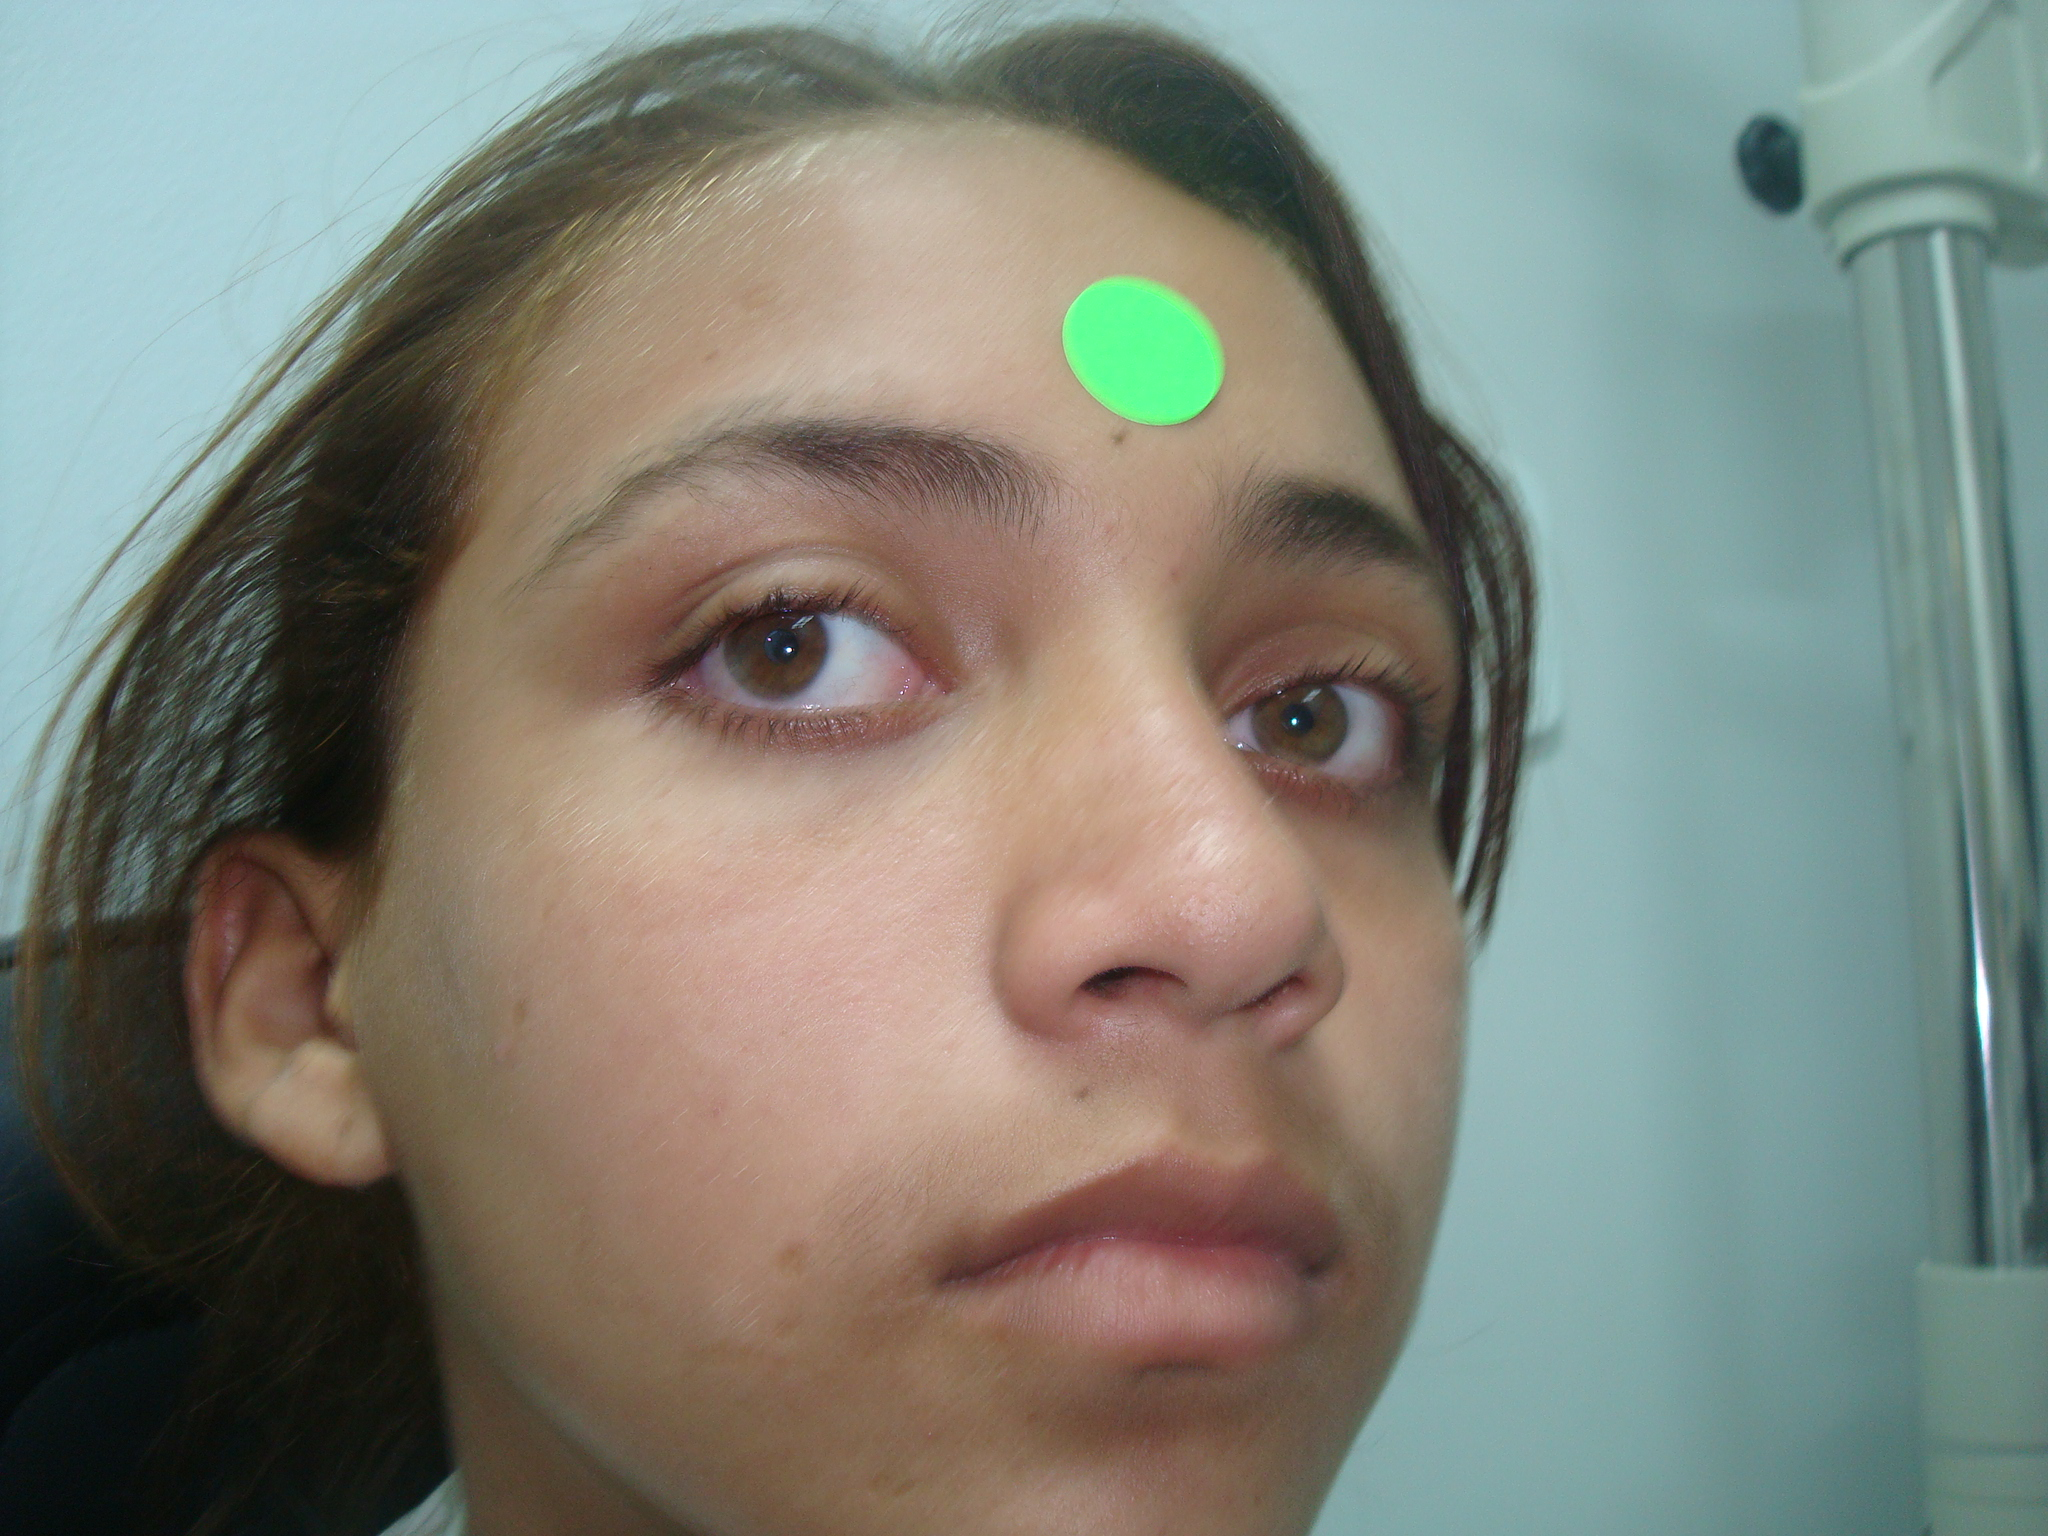flash: (780, 642, 798, 657), (1287, 715, 1301, 728)
limbo: (726, 597, 837, 697), (1245, 674, 1348, 765)
